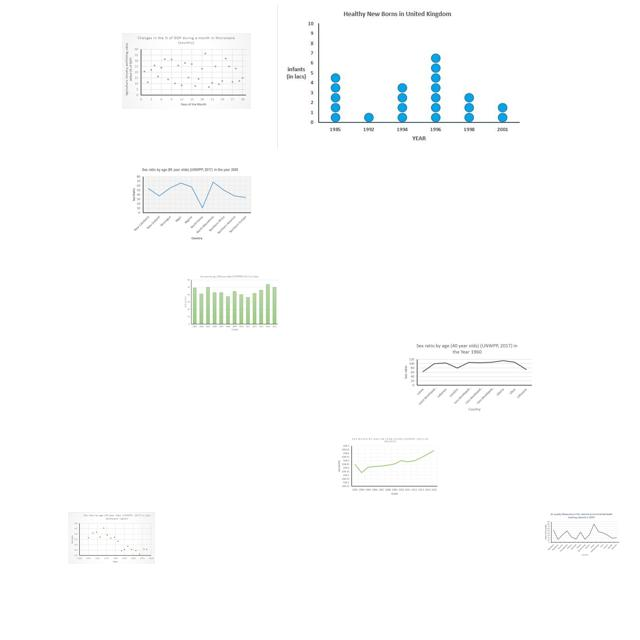Graph: (277, 4, 525, 149), (122, 33, 251, 109), (400, 340, 534, 413), (128, 166, 253, 241), (335, 436, 439, 497), (183, 274, 279, 332), (68, 512, 155, 564), (543, 511, 620, 557)
